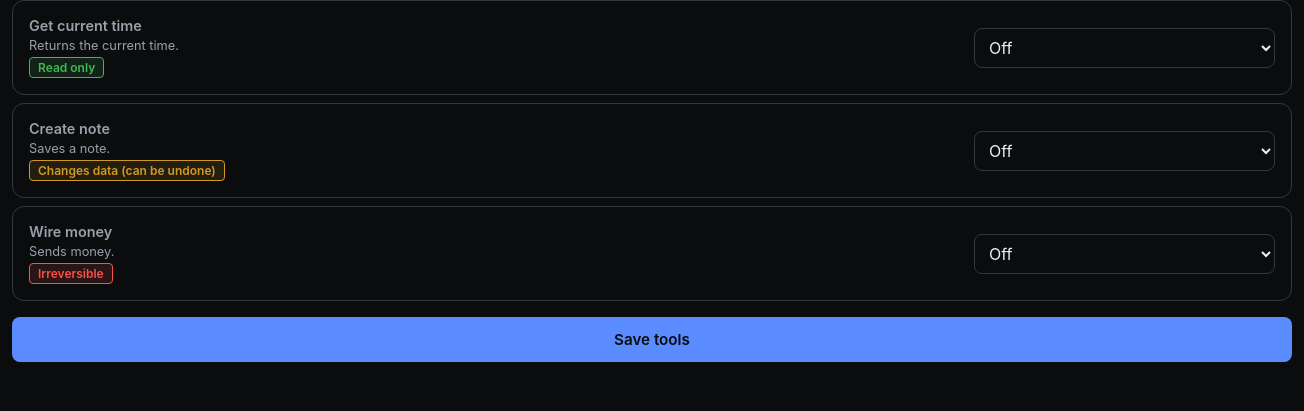
Test: ToolBindingsEditor › shows API refusals as alerts and keeps the selection
Select "Ask a person first (recommended)" in the dropdown labelled "Create note": (1124, 150) top-left (974, 130), bottom-right (1275, 170)
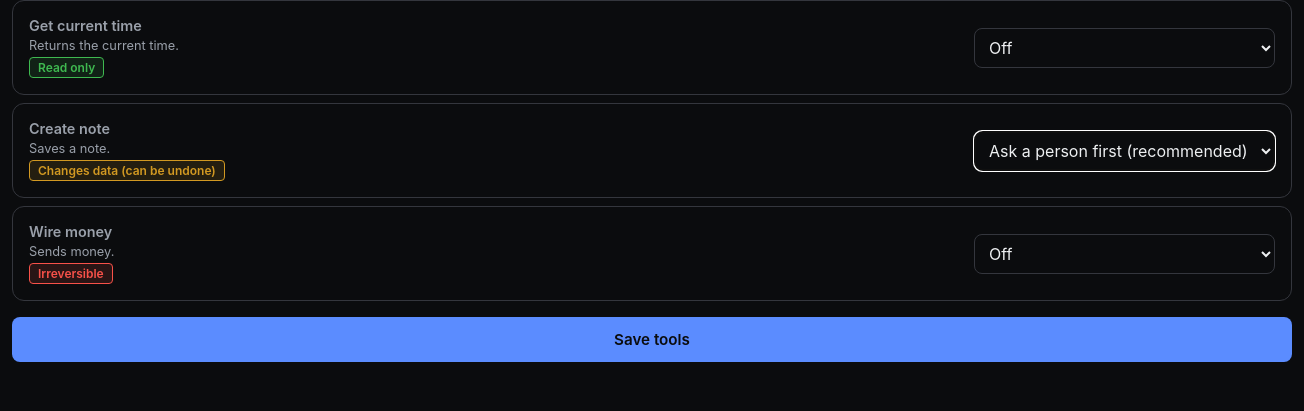
Click the button "Save tools": (652, 340) top-left (12, 317), bottom-right (1292, 362)
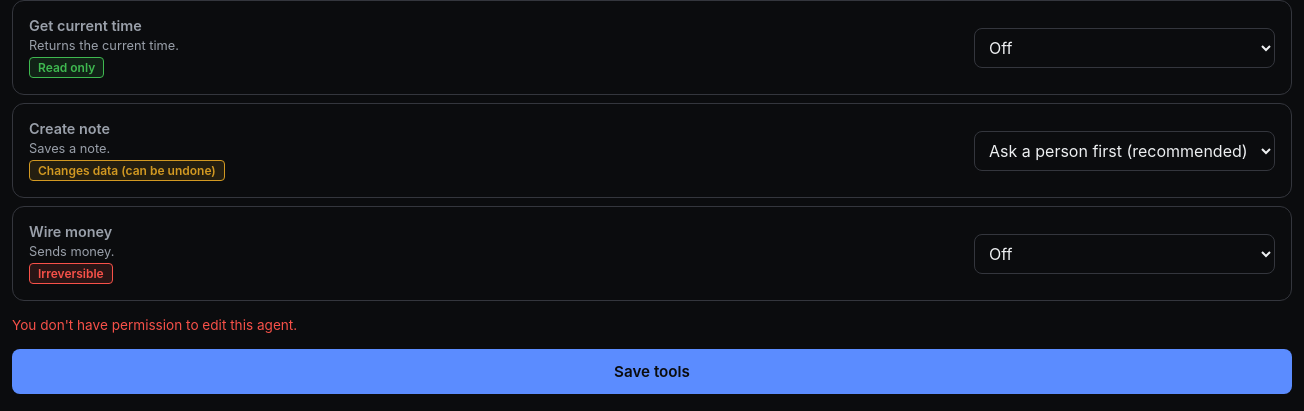
Result: the dropdown labelled "Create note" shows "Ask a person first (recommended)" at top-left (974, 130), bottom-right (1275, 170)
Result: the message shows "permission" at top-left (12, 317), bottom-right (297, 333)
